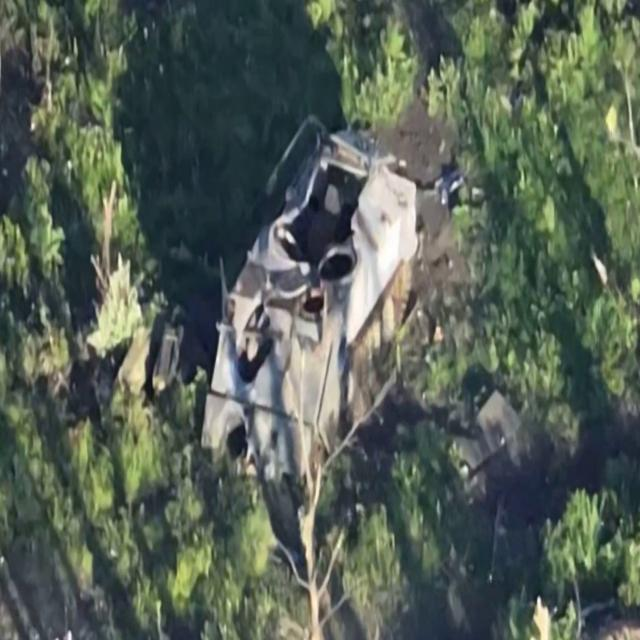Destroyed: (197, 126, 421, 481)
